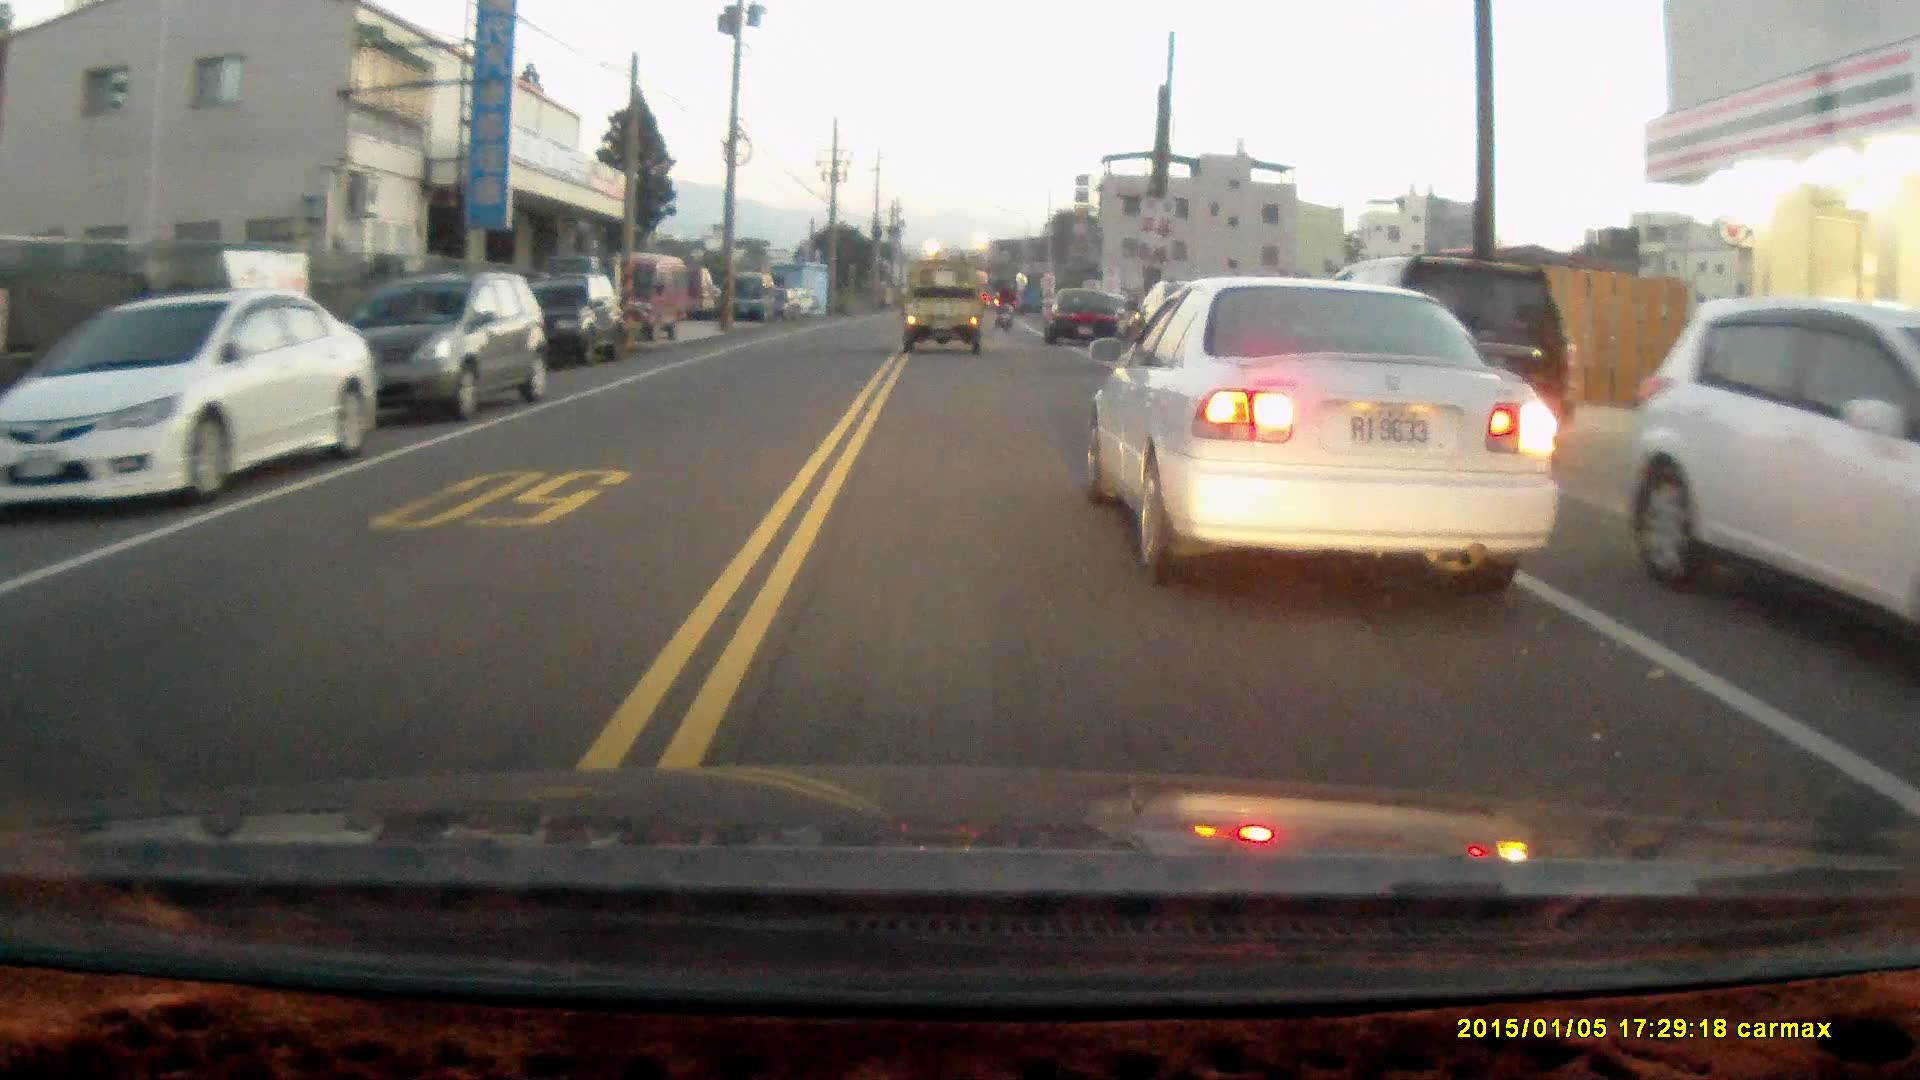rider: (994, 281, 1021, 329)
vehicle: (1079, 272, 1557, 581), (1633, 296, 1920, 660), (0, 288, 383, 519), (1323, 254, 1573, 480), (320, 270, 548, 422), (593, 253, 699, 342), (899, 264, 989, 366), (532, 276, 628, 369), (1048, 287, 1129, 345)
